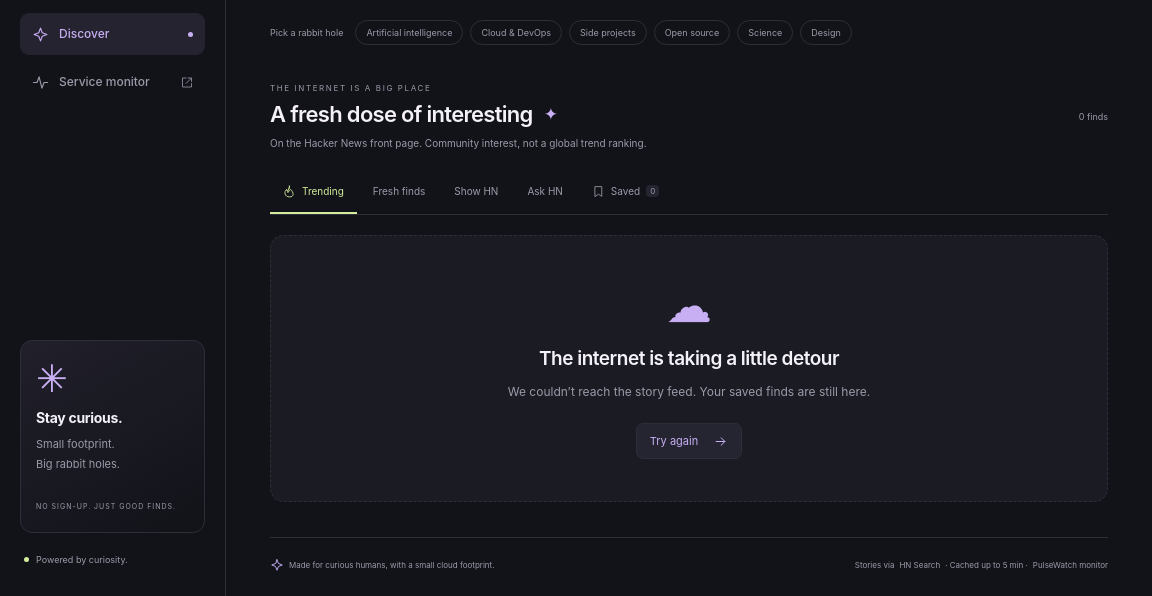
PulsePlay › handles provider failures without raw errors and supports retry
This screenshot has width=1152, height=596.
(page scrolled)
Expected: the message is shown, [270,235,1108,502]
Click the button "Try again" at (689, 441), box [636,423,742,459]
(page scrolled)
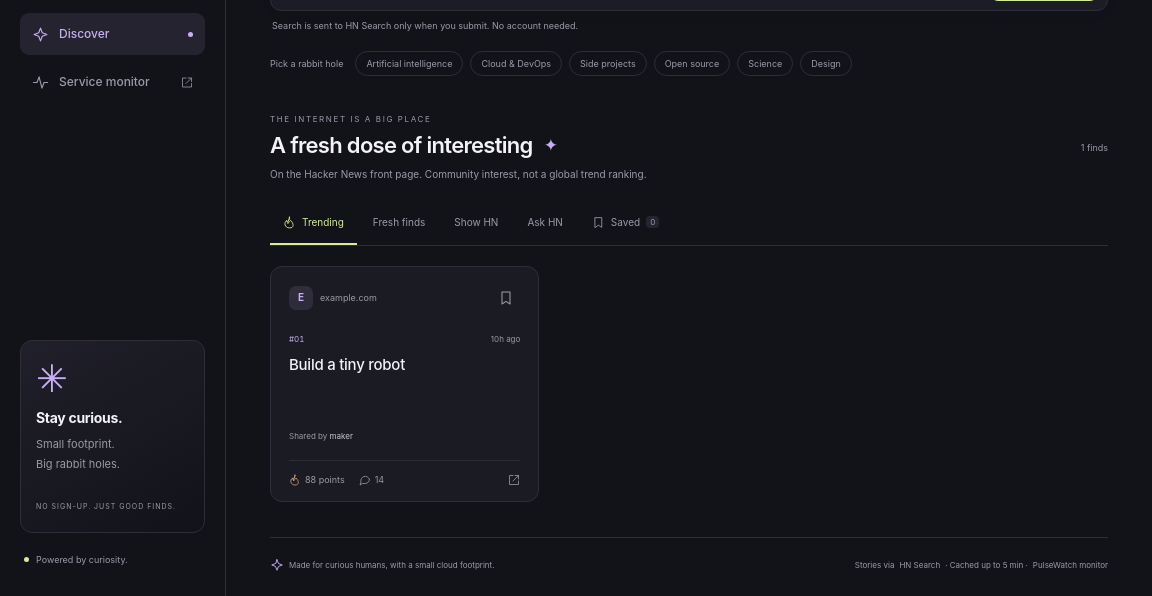
Expected: the link "Build a tiny robot" is shown, [289,355,405,374]
